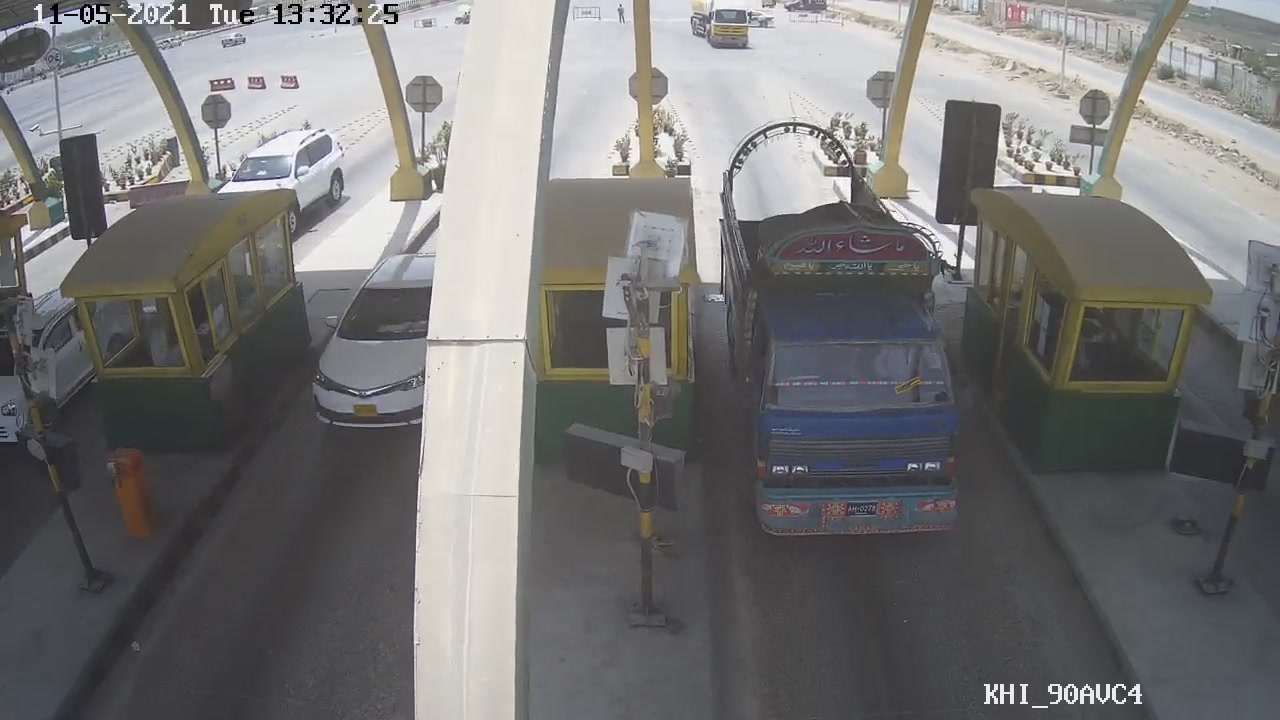F5: (717, 136, 966, 545)
